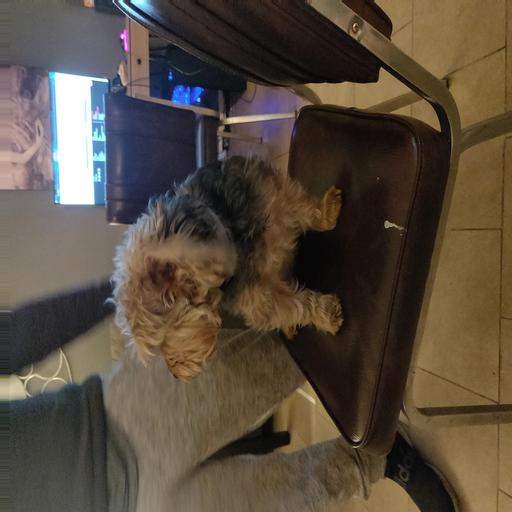dog: (102, 135, 353, 386)
